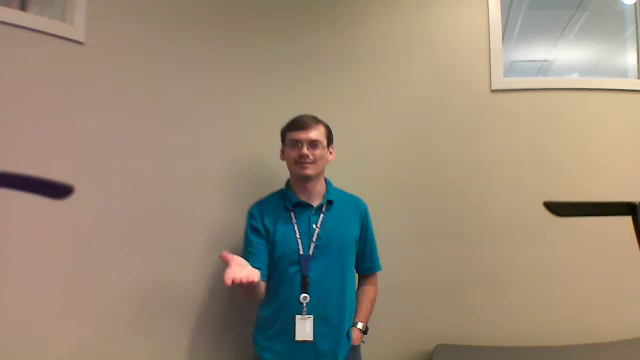land: (210, 248, 264, 291)
